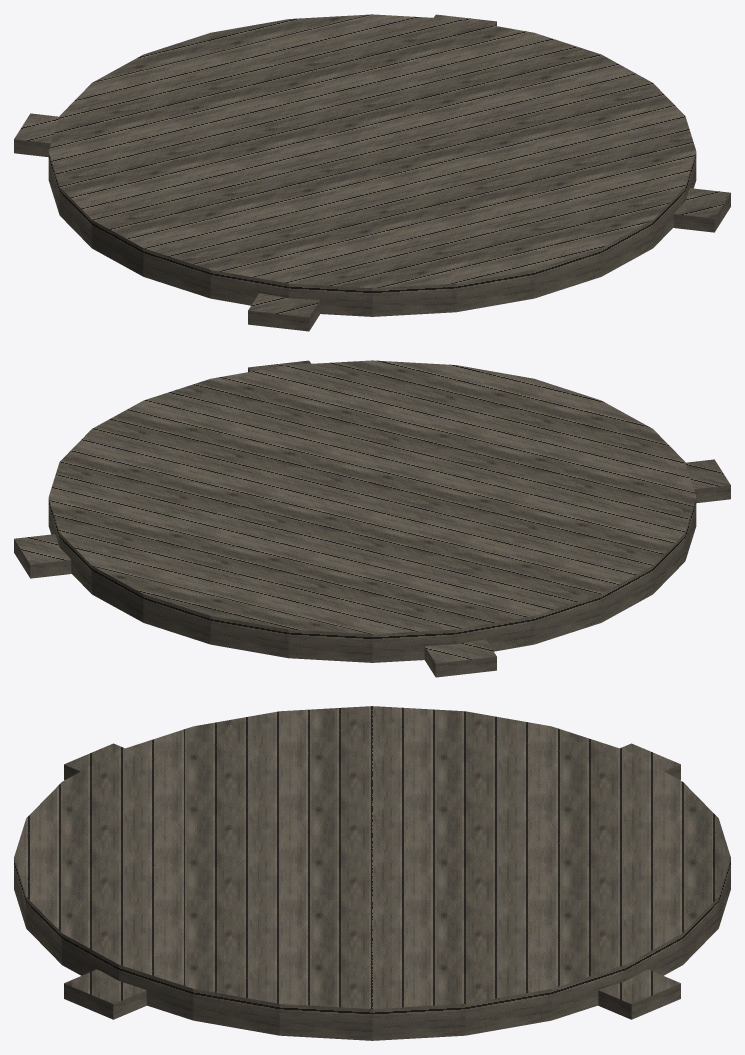
The model's file is tiovivo_base.obj.
3 views of the same model, one above another, from view 1: azimuth 30°, elevation 25°; view 2: azimuth 150°, elevation 25°; view 3: azimuth 270°, elevation 25° (orthographic). The views are drawn at different scales.
Parts seen in each view (by area): view 1: tiovivo_base; view 2: tiovivo_base; view 3: tiovivo_base.
Boxes of the visible parts, left/top/right/bottom form: tiovivo_base: left=14, top=14, right=730, bottom=331; tiovivo_base: left=14, top=360, right=730, bottom=677; tiovivo_base: left=14, top=706, right=730, bottom=1040.
Size of the model in its own units: 9.2 by 0.45 by 9.2.
Materials: 1 (1 with a texture image).
